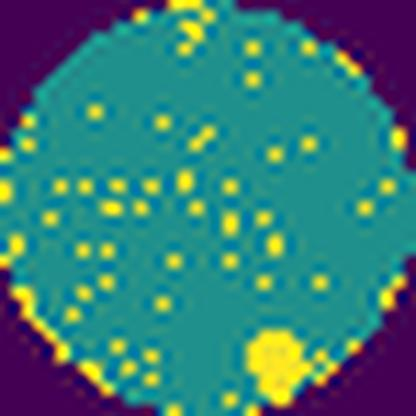Edge-Loc: (245, 328, 311, 407)
